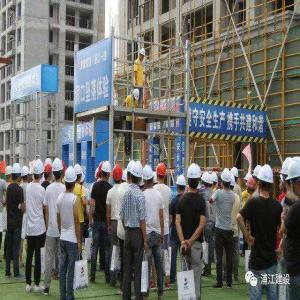red: (157, 162, 168, 184), (113, 164, 124, 185), (246, 177, 258, 196), (43, 163, 54, 183)
white: (287, 154, 300, 201), (258, 163, 275, 195), (187, 162, 201, 191), (64, 166, 78, 194), (143, 163, 156, 191), (131, 160, 144, 185), (52, 157, 64, 182), (33, 158, 44, 183), (221, 168, 232, 191), (101, 160, 112, 182), (176, 174, 187, 196), (12, 162, 22, 184), (202, 170, 212, 190), (75, 163, 84, 185), (22, 166, 31, 184), (133, 88, 140, 103), (140, 48, 146, 64)
